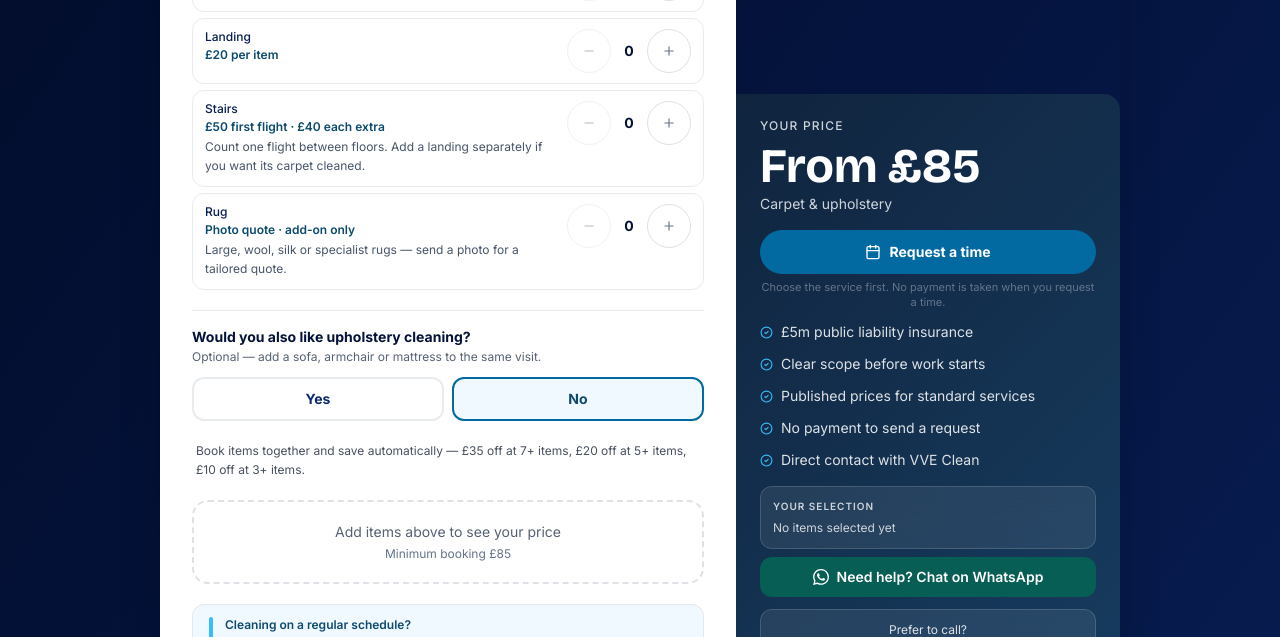
Scenario: Carpet page — optional upholstery disclosure › does not resurrect a cleared sofa when the panel is reopened
(page scrolled)
Click the button "Yes": (318, 399) [192, 377, 444, 421]
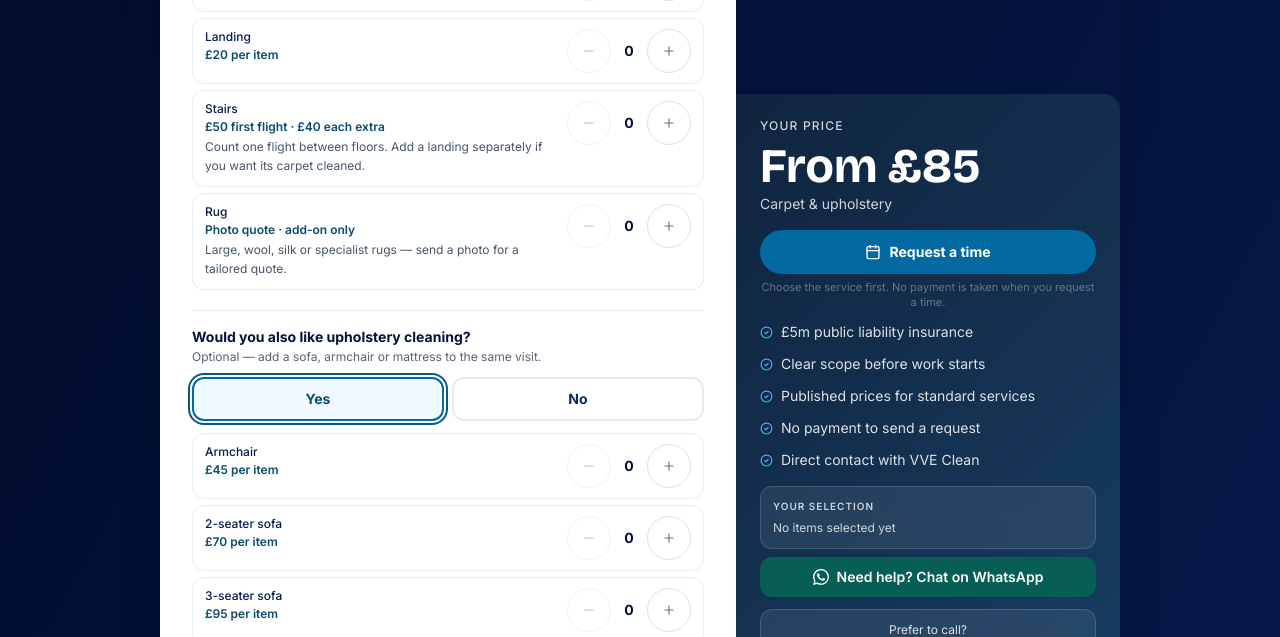
Click the button named "Increase 3-seater sofa quantity": (669, 610) [647, 588, 691, 632]
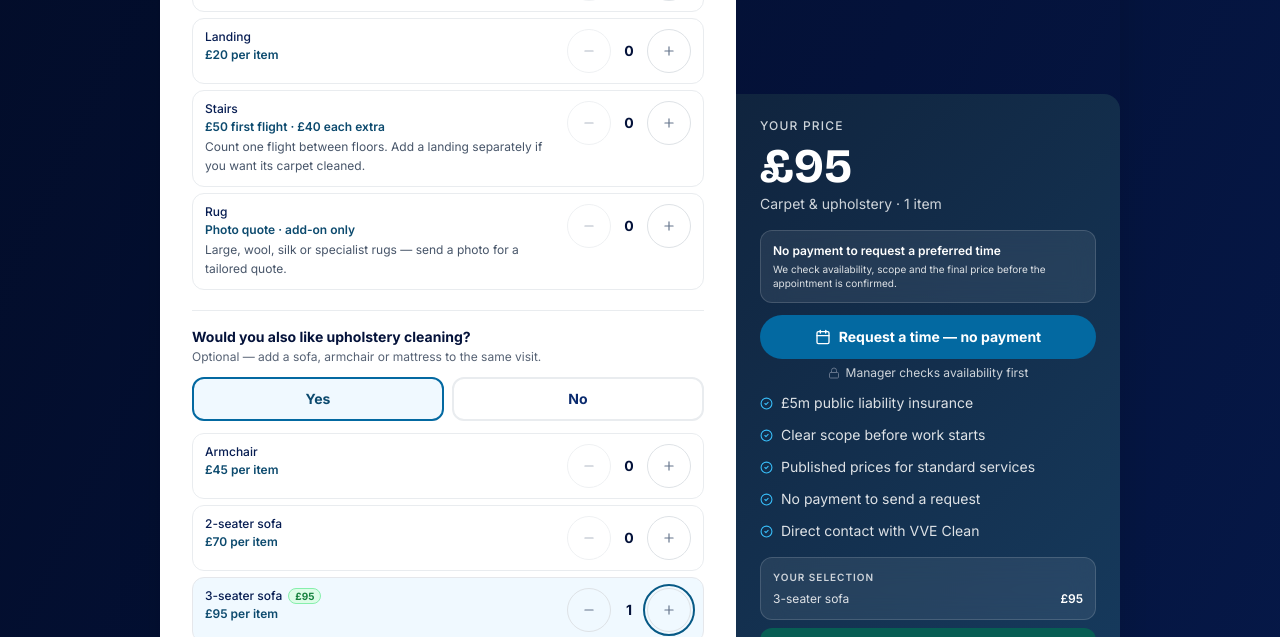
Click the button named "Increase 3-seater sofa quantity": (669, 610) [647, 588, 691, 632]
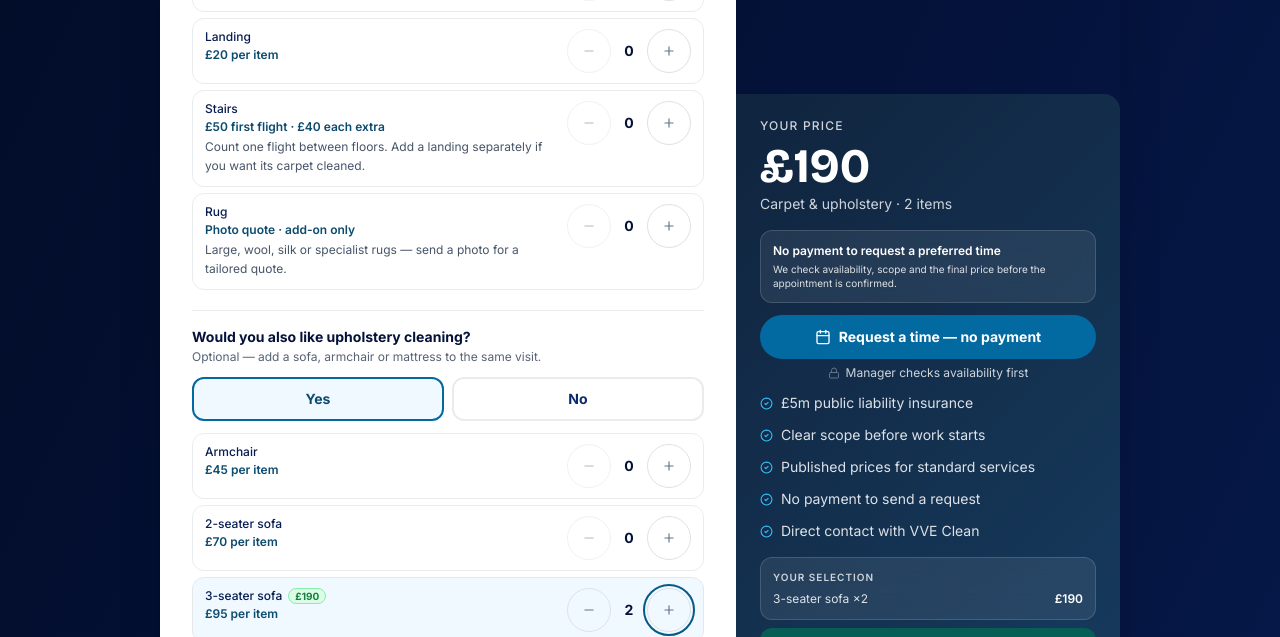
Click the button "No": (578, 399) [452, 377, 704, 421]
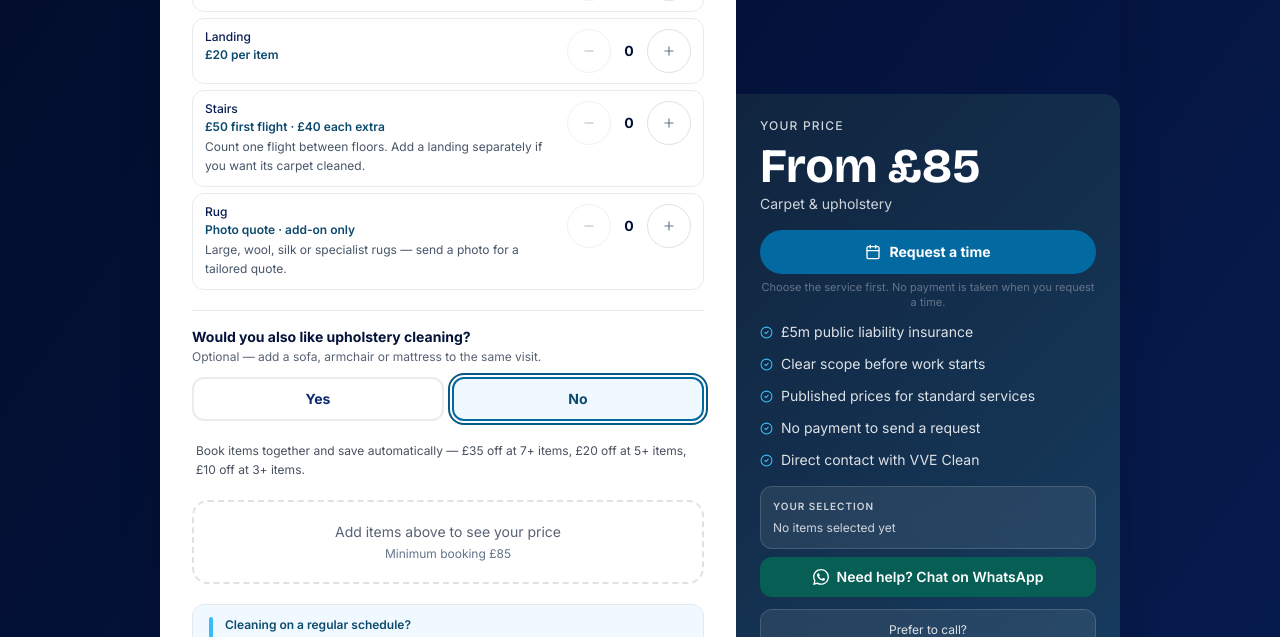
Click the button "Yes": (318, 399) [192, 377, 444, 421]
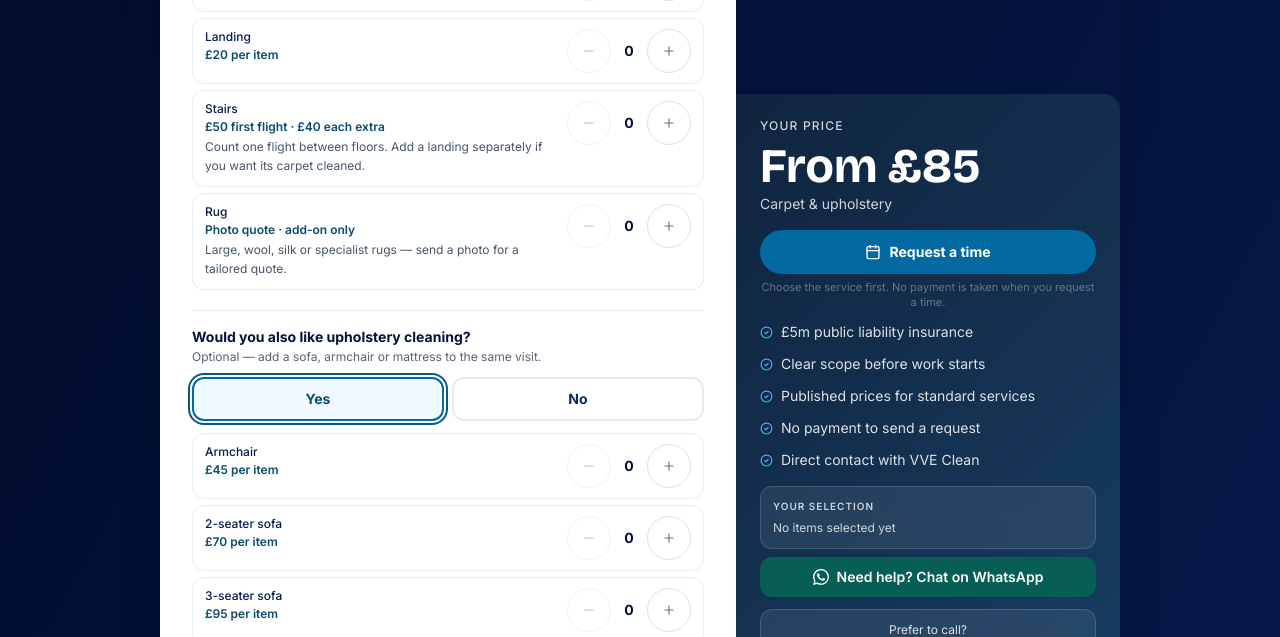
Result: the text "0" in the row of "3-seater sofa" is shown at [624, 601, 634, 618]
